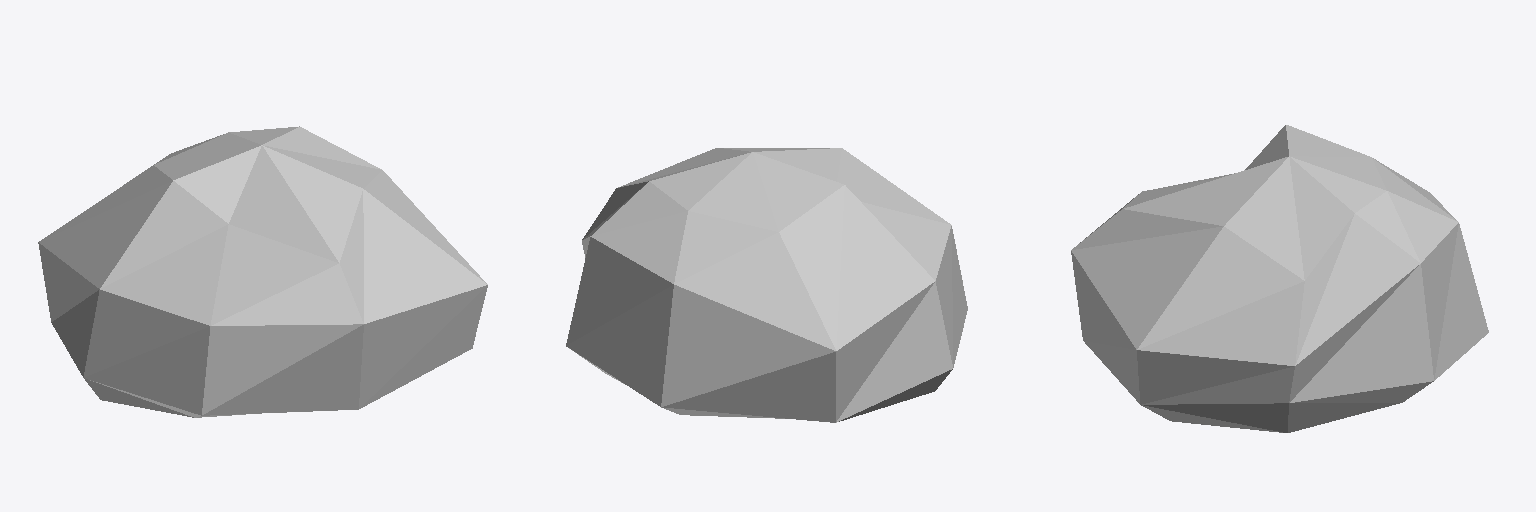
The model's file is SmallRock04_collider.obj.
3 renders of one model, left to right at view 1: azimuth 30°, elevation 25°; view 2: azimuth 150°, elevation 25°; view 3: azimuth 270°, elevation 25°, orthographic.
Visible parts, largest first — view 1: SmallRock04_collider SmallRock04 SmallRocks; view 2: SmallRock04_collider SmallRock04 SmallRocks; view 3: SmallRock04_collider SmallRock04 SmallRocks.
Part boxes in pixels (bbox=[...]): SmallRock04_collider SmallRock04 SmallRocks: bbox=[38, 126, 487, 417]; SmallRock04_collider SmallRock04 SmallRocks: bbox=[566, 148, 967, 422]; SmallRock04_collider SmallRock04 SmallRocks: bbox=[1071, 125, 1488, 432].
Size of the model in its own units: 546 by 306 by 553.